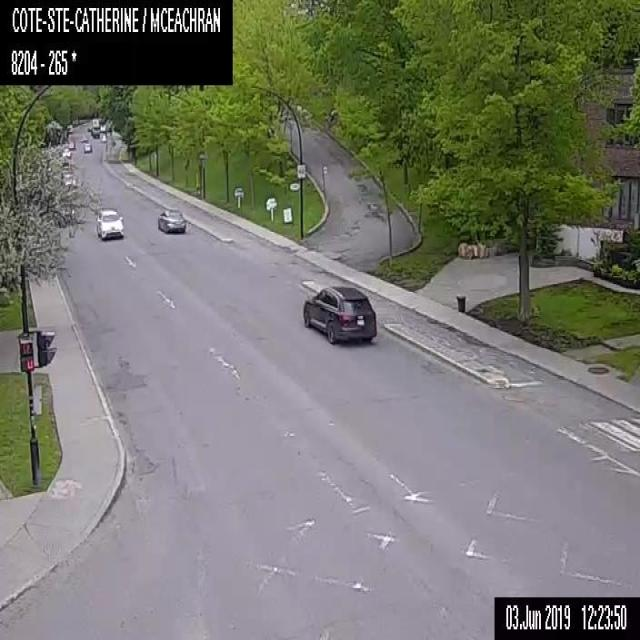vehicle: (302, 283, 376, 344), (95, 207, 124, 240), (157, 207, 185, 232), (83, 142, 92, 152), (62, 147, 70, 157), (92, 129, 100, 138), (68, 139, 75, 149), (80, 134, 86, 142)
